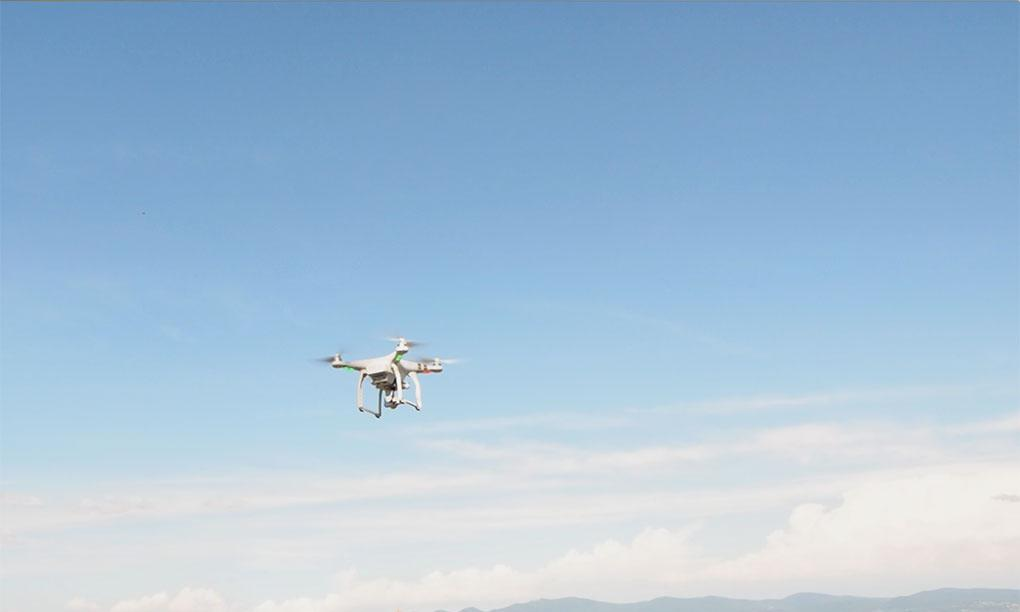drone: (300, 325, 472, 431)
